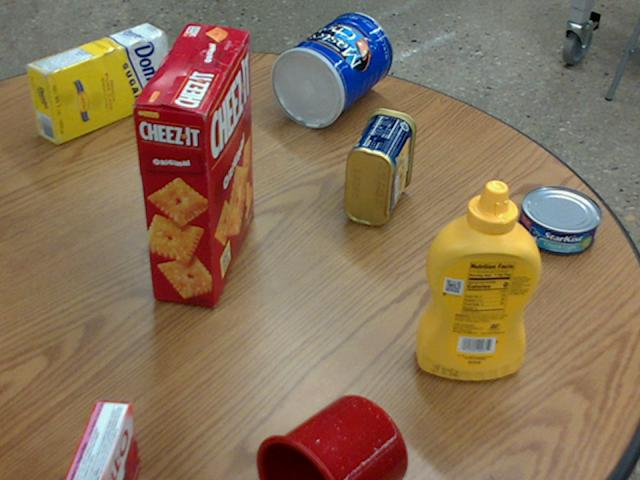cracker_box: (133, 24, 250, 306)
gelatin_box: (59, 401, 136, 479)
master_chef_can: (269, 12, 390, 127)
mug: (253, 395, 406, 479)
mustard_bottle: (414, 180, 539, 379)
potted_meat_can: (344, 107, 415, 224)
sugar_box: (26, 22, 170, 143)
tuna_fish_can: (516, 185, 599, 255)
